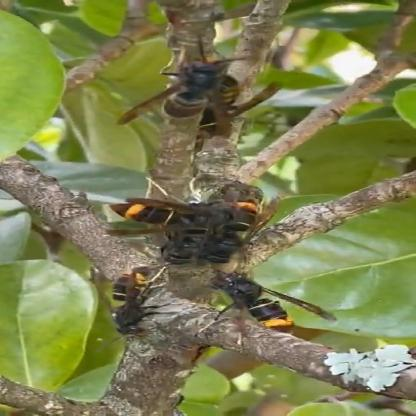bee: (104, 46, 275, 156), (89, 193, 280, 260), (200, 263, 339, 341), (67, 267, 172, 346)
